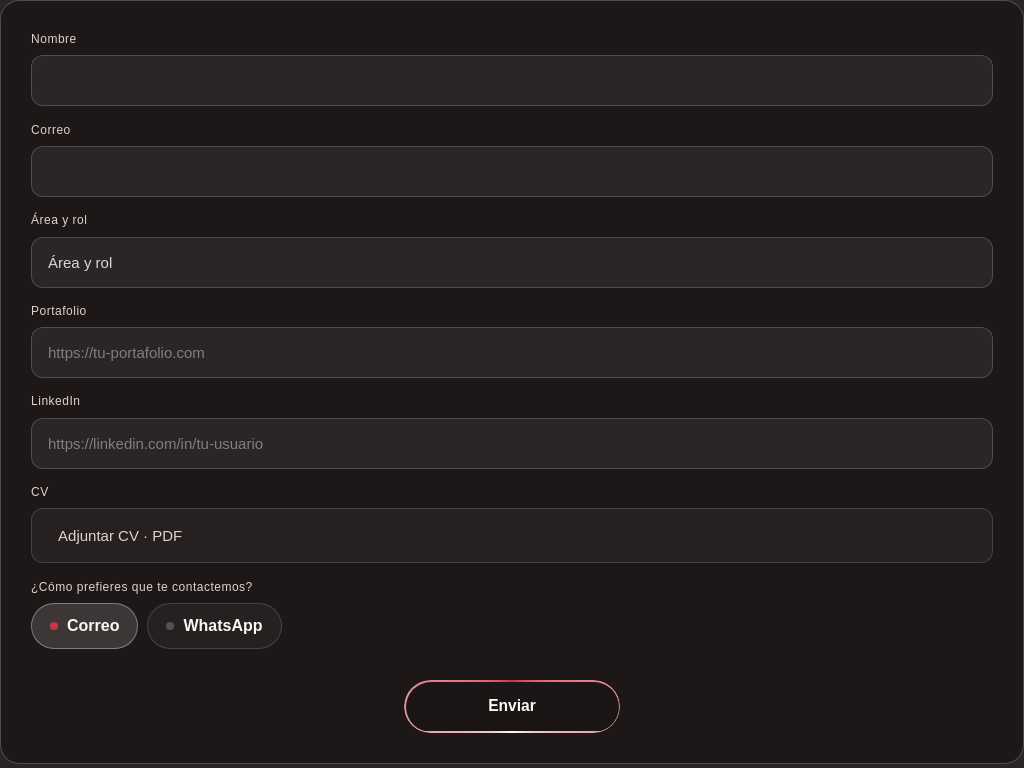
Test case: ApplicationForm · uploading › should never show the uploading label when no CV is chosen
This screenshot has width=1024, height=768.
Type "Ana" into the field with id "name" at (512, 81), box [31,55,993,106]
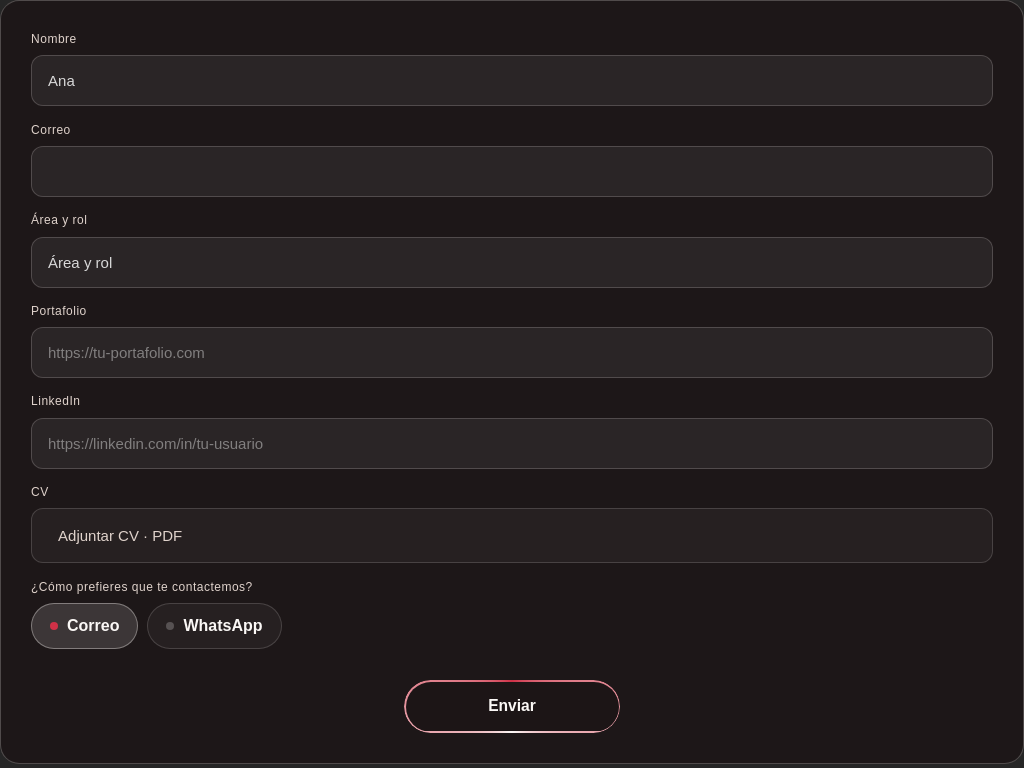
Type "ana@muush.dev" into the field with id "email" at (512, 172), box [31,146,993,197]
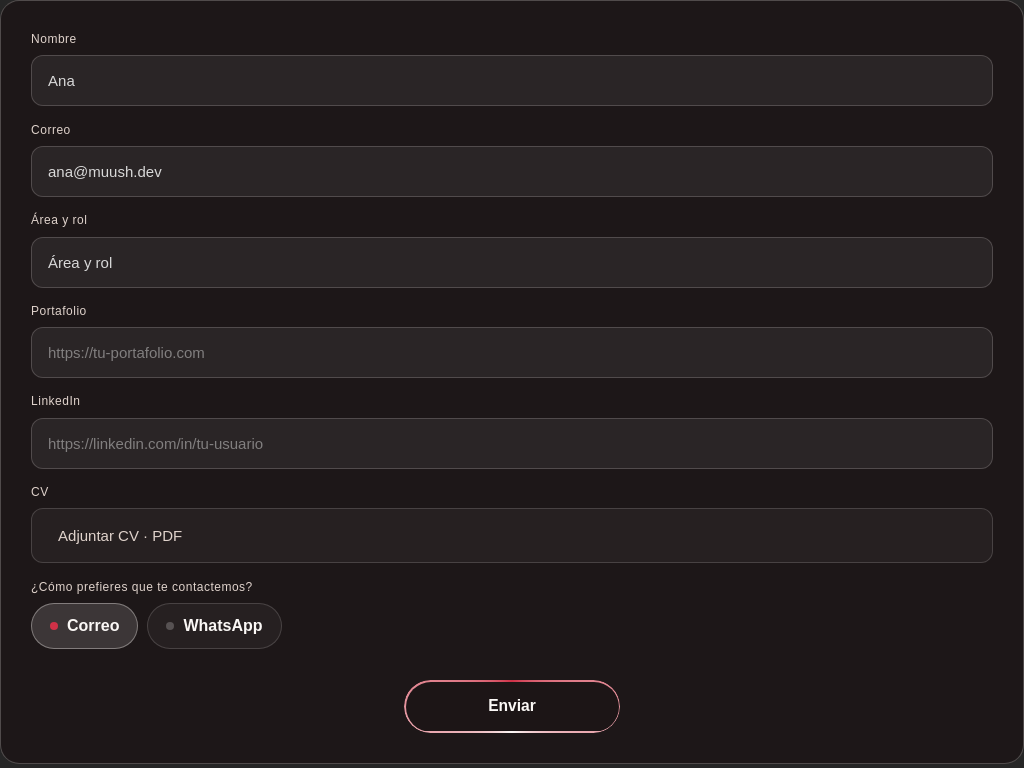
Select "backend" in the dropdown with id "areaRole" at (512, 262), box [31,237,993,288]
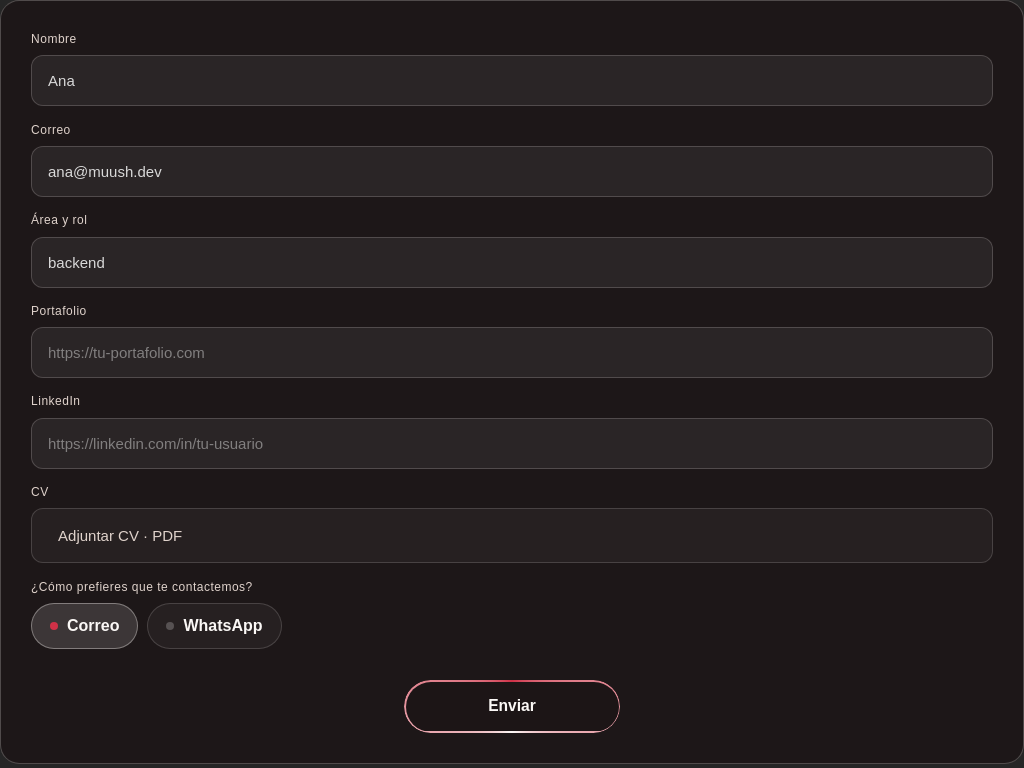
Submit the form
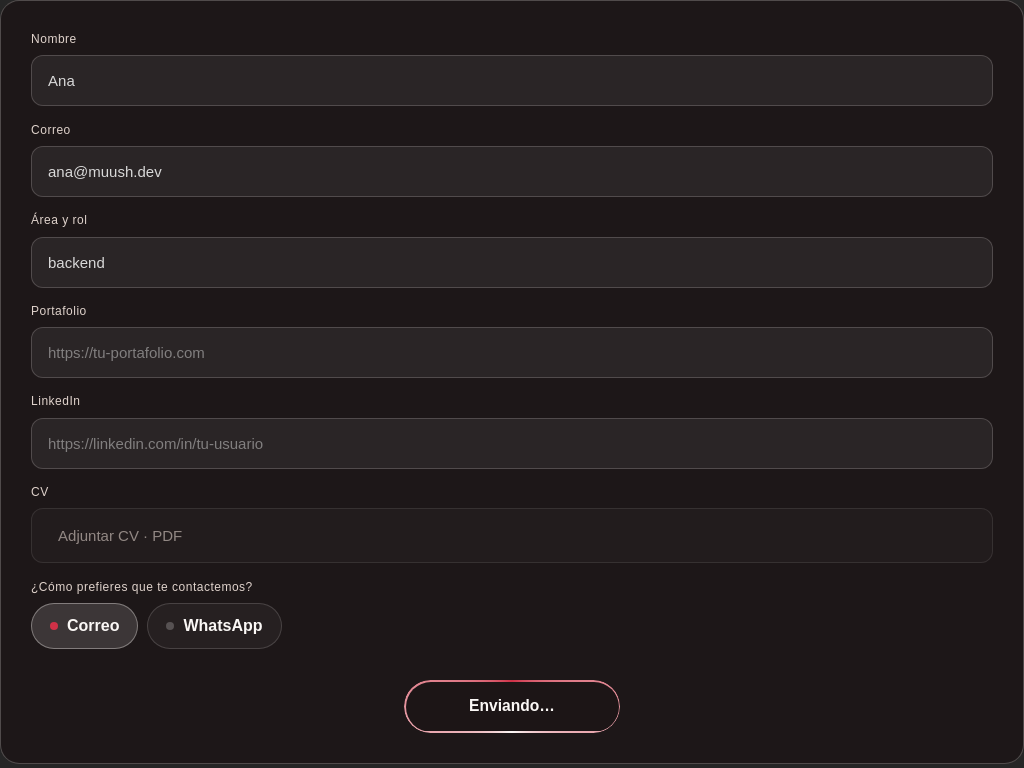
Expected: the submit button reads "Enviando…", [404,680,620,733]
